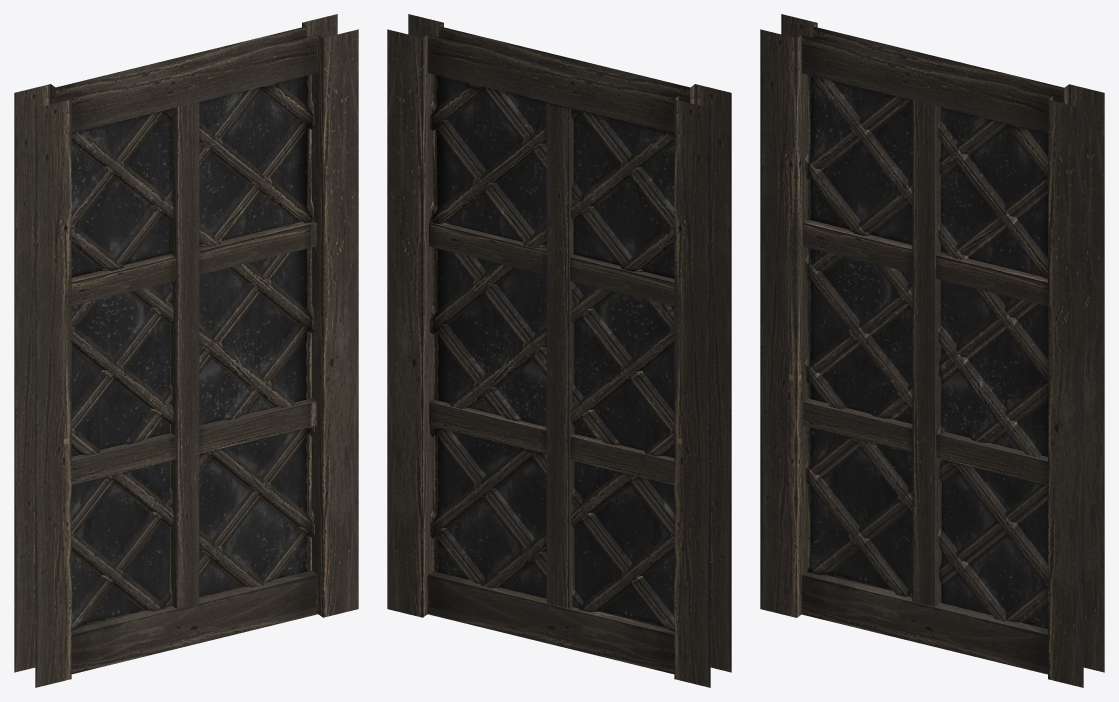
The model's file is ARC1010366.fbx.
3 renders of one model, left to right at view 1: azimuth 30°, elevation 25°; view 2: azimuth 150°, elevation 25°; view 3: azimuth 330°, elevation 25°, orthographic.
Parts seen in each view (by area): view 1: smARC1010366; view 2: smARC1010366; view 3: smARC1010366.
Part boxes in pixels (bbox=[...]): smARC1010366: bbox=[14, 14, 358, 687]; smARC1010366: bbox=[387, 14, 731, 687]; smARC1010366: bbox=[760, 14, 1104, 687].
Size of the model in its own units: 75.7 by 130 by 8.5.
1 material, 1 textured.
